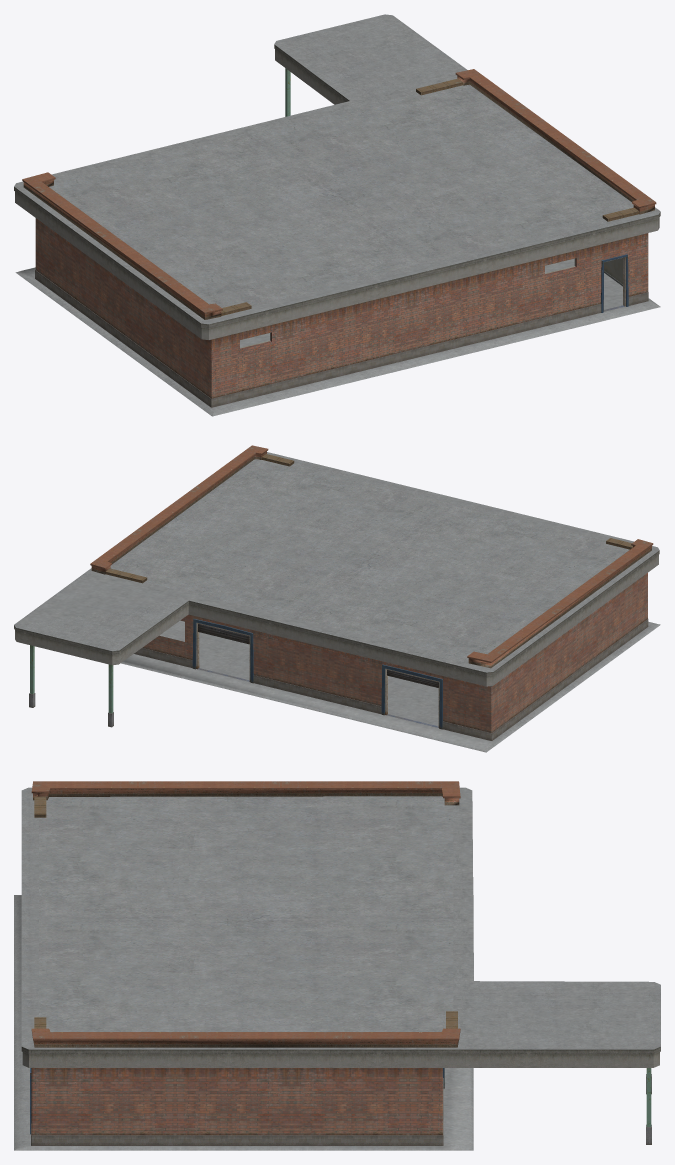
File: Building_WestGasStation001_lod2.glb
3 renders of one model, top to bottom at view 1: azimuth 30°, elevation 25°; view 2: azimuth 150°, elevation 25°; view 3: azimuth 270°, elevation 25°, orthographic. The views are drawn at different scales.
Visible parts, largest first — view 1: West_gas_station_001_lod2_0; view 2: West_gas_station_001_lod2_0; view 3: West_gas_station_001_lod2_0.
Part boxes in pixels (left/top/right/bottom): West_gas_station_001_lod2_0: left=14, top=14, right=660, bottom=416; West_gas_station_001_lod2_0: left=14, top=445, right=660, bottom=752; West_gas_station_001_lod2_0: left=14, top=781, right=660, bottom=1150.
Size of the model in its own units: 31.07 by 6.31 by 32.43.
2 materials, 2 textured.
